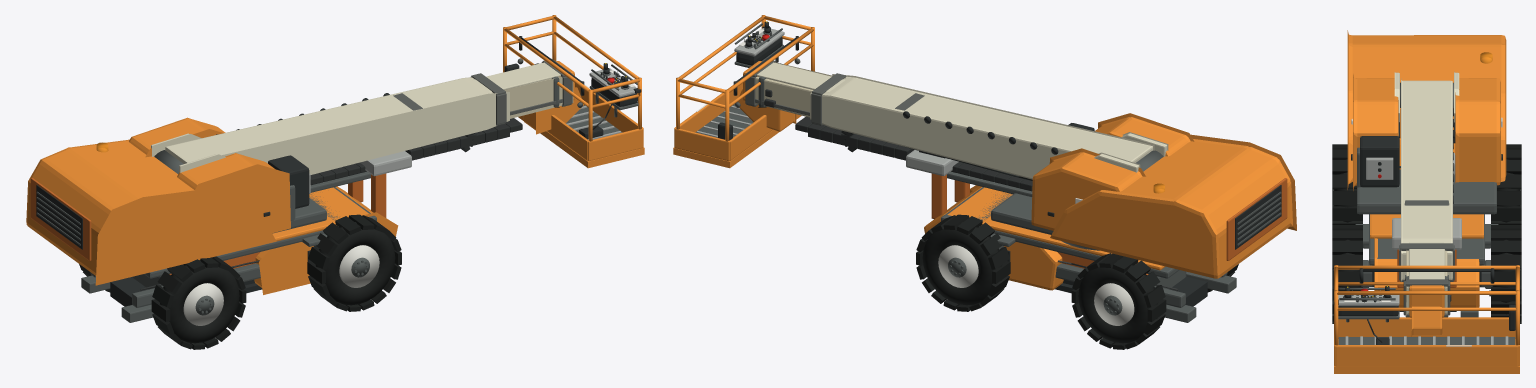
3 views of the same model, side by side, from view 1: azimuth 30°, elevation 25°; view 2: azimuth 150°, elevation 25°; view 3: azimuth 270°, elevation 25° (orthographic). The views are drawn at different scales.
Visible parts, largest first — view 1: Counterweight, BaseBoomShell, TankCover, ChassisFrontPod, Wheel_RR_Tire, Wheel_FR_Tire, EngineCover, MidBoomShell, CounterweightRearPanel, PlatformToeboard_R, RearCoolingGrille, MidBoomTopPlate (+15 smaller); view 2: Counterweight, BaseBoomShell, EngineCover, ChassisFrontPod, Wheel_RL_Tire, Wheel_FL_Tire, TankCover, MidBoomShell, UpperFrame, LowerDeck, CounterweightRearPanel, PlatformToeboard_L (+16 smaller); view 3: BaseBoomShell, Counterweight, EngineCover, PlatformToeboard_F, TankCover, PlatformToeboard_B, UpperFrame, ChassisFrontPod, PlatformDeck, Controls, ChassisTopPlate, LowerDeck (+47 smaller).
Part boxes in pixels (x1,y1,x2,y2): Counterweight: (26,139,276,285); BaseBoomShell: (165,77,509,174); TankCover: (177,153,290,233); ChassisFrontPod: (254,186,398,294); Wheel_RR_Tire: (159,260,239,343); Wheel_FR_Tire: (315,222,395,305); EngineCover: (129,117,225,157); MidBoomShell: (492,74,573,118); CounterweightRearPanel: (30,178,91,260); PlatformToeboard_R: (588,128,643,160); RearCoolingGrille: (36,185,82,249); MidBoomTopPlate: (472,62,560,92); Counterweight: (1050,134,1296,278); BaseBoomShell: (810,74,1154,179); EngineCover: (1031,148,1145,230); ChassisFrontPod: (924,185,1063,290); Wheel_RL_Tire: (1078,260,1158,343); Wheel_FL_Tire: (922,222,1002,305); TankCover: (1095,113,1194,156); MidBoomShell: (755,59,845,117); UpperFrame: (991,193,1053,234); LowerDeck: (941,187,1179,278); CounterweightRearPanel: (1226,178,1287,260); PlatformToeboard_L: (674,128,729,160); BaseBoomShell: (1401,78,1452,281); Counterweight: (1347,30,1506,189); EngineCover: (1455,78,1500,185); PlatformToeboard_F: (1335,345,1518,366); TankCover: (1353,74,1398,190); PlatformToeboard_B: (1338,317,1515,338); UpperFrame: (1357,169,1496,214); ChassisFrontPod: (1374,236,1479,307); PlatformDeck: (1334,339,1519,373); Controls: (1360,136,1399,187); ChassisTopPlate: (1370,214,1483,238); LowerDeck: (1369,214,1484,265).
Bounding box in the file's own units: 8.71 × 2.5 × 2.48.
